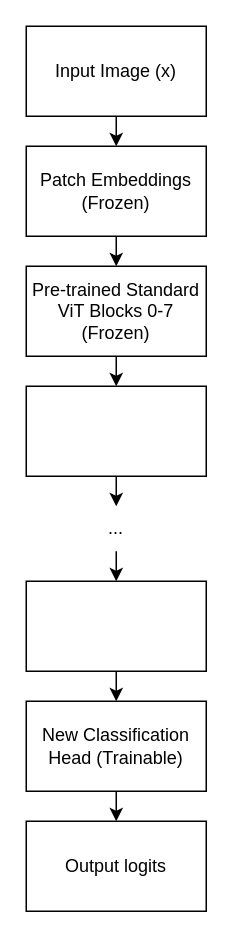
This 233x938 diagram has some shape labels left out. The shapes that lost their labels are listed below. From the top down, each one's centre as x and y in pixels, then its label:
At pixel 115 430: "MoE-LoRA Block 8 (Trainable)".
At pixel 115 625: "MoE-LoRA Block 11 (Trainable)".
